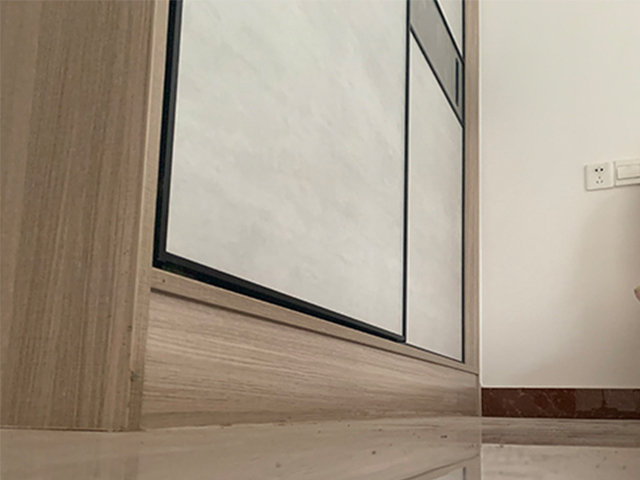cabinet: (1, 1, 483, 434)
